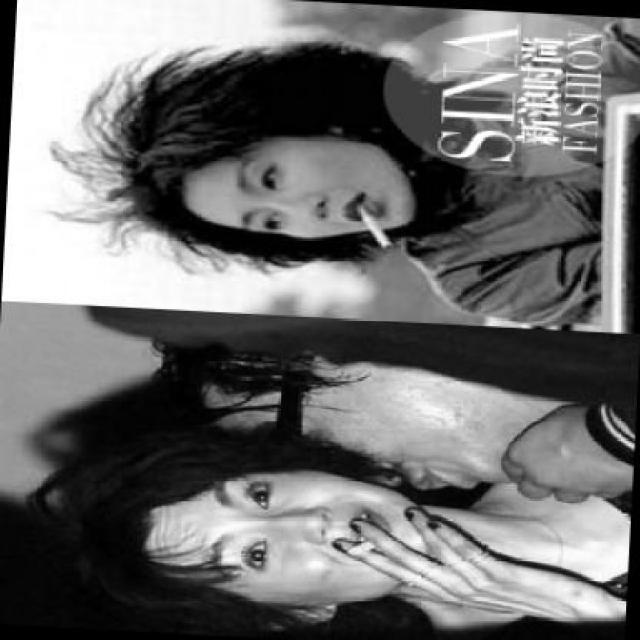cigarette: (350, 198, 398, 248), (344, 537, 378, 554)
